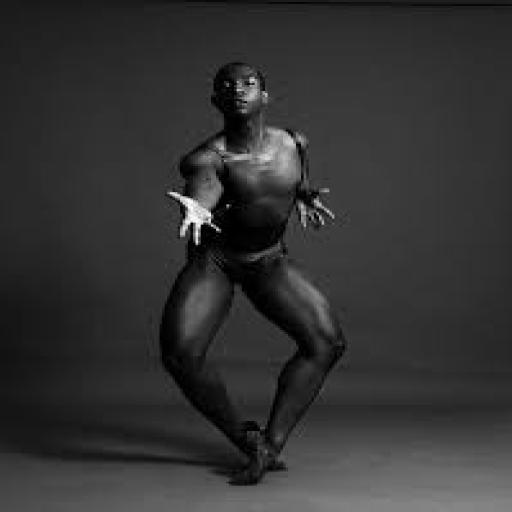dancing: (154, 58, 352, 488)
